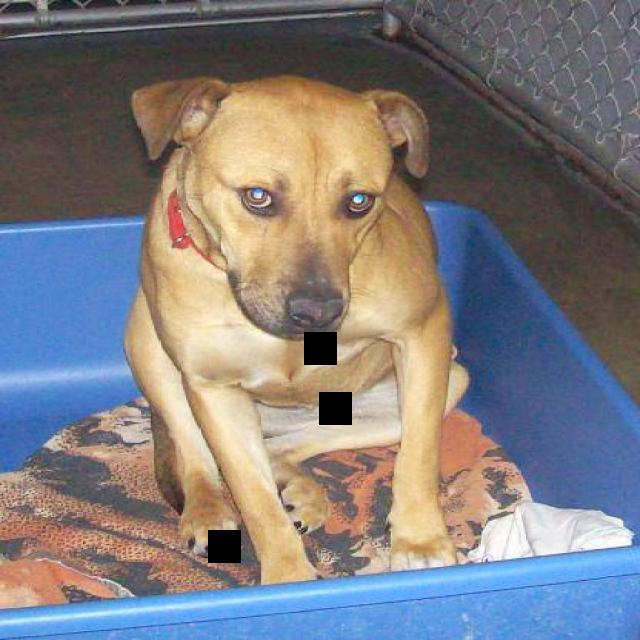adult_dog: (124, 74, 468, 586)
